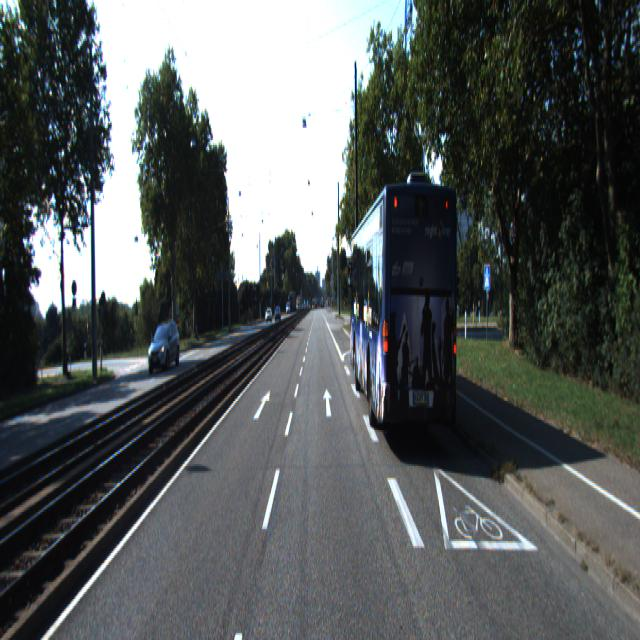Car: (350, 172, 462, 458), (146, 322, 181, 376)
